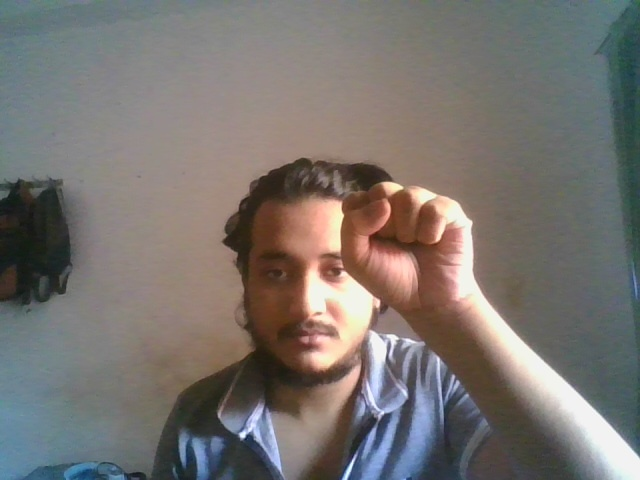Close: (339, 182, 476, 312)
